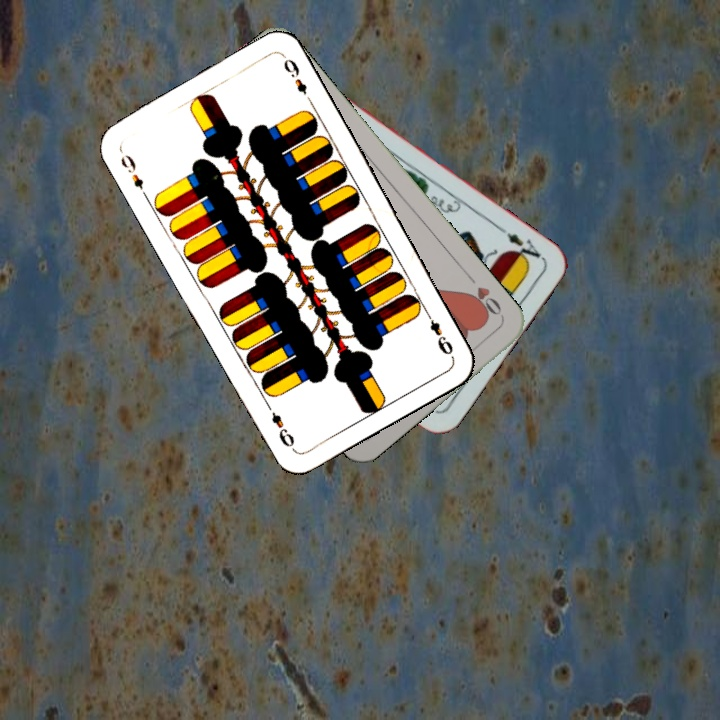E9: (420, 306, 456, 360), (116, 150, 146, 193)
EA: (494, 222, 546, 265)
HO: (462, 270, 505, 321)
